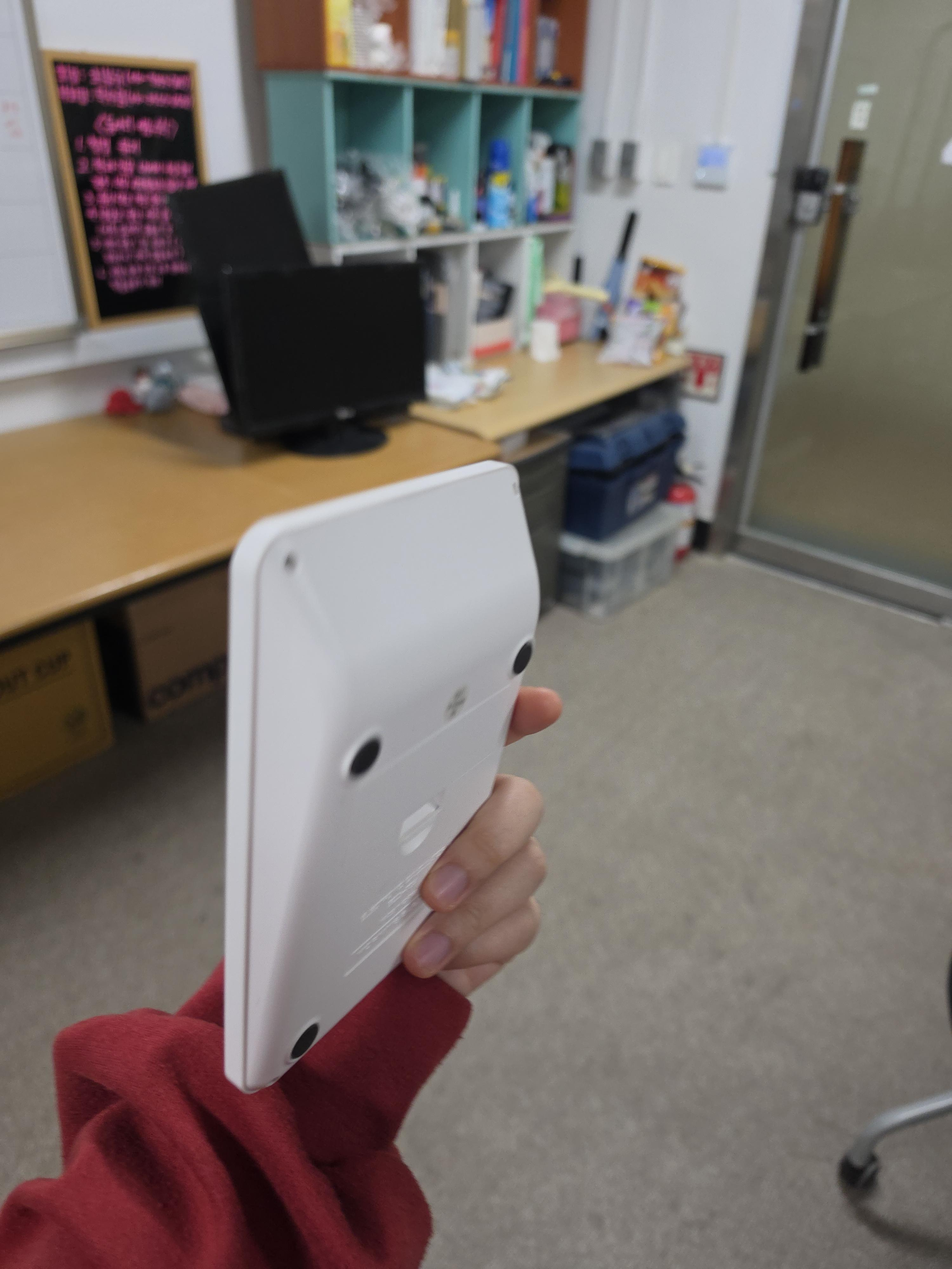calculator: (223, 460, 540, 1094)
